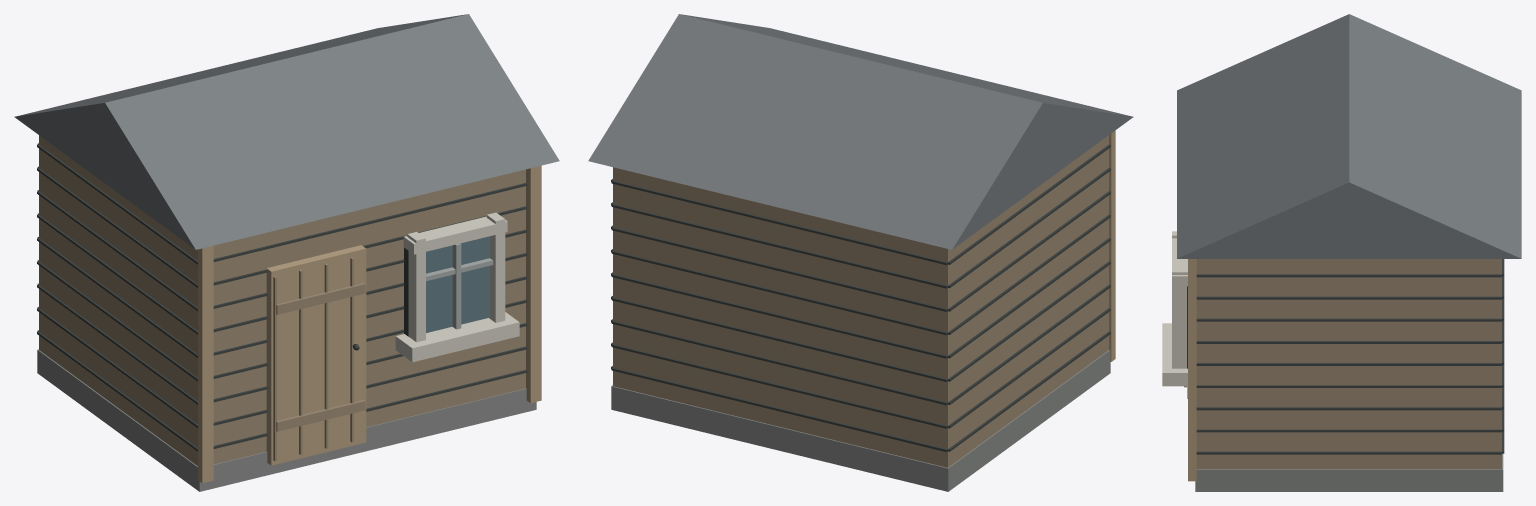
Rendered from garden-shed.glb.
3 views of the same model, side by side, from view 1: azimuth 30°, elevation 25°; view 2: azimuth 150°, elevation 25°; view 3: azimuth 270°, elevation 25° (orthographic). The views are drawn at different scales.
Visible parts, largest first — view 1: garden-shed; view 2: garden-shed; view 3: garden-shed.
Part boxes in pixels (x1,y1,x2,y2): garden-shed: [14, 14, 559, 491]; garden-shed: [588, 14, 1133, 491]; garden-shed: [1162, 14, 1521, 491].
Bounding box in the file's own units: 3.26 × 2.85 × 2.94.
